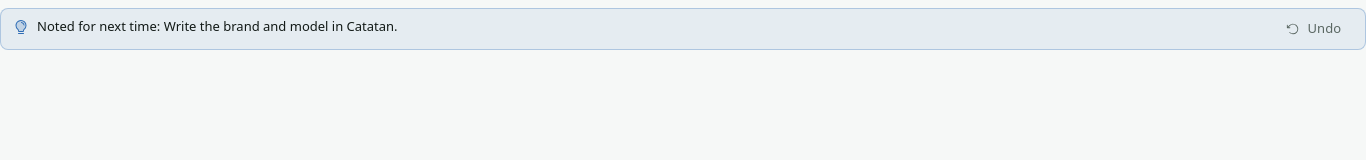
it: Noted for next time › shows the lesson and Undo takes it back on the server
This screenshot has width=1366, height=160.
expect the text "Noted for next time:" is shown: met, box [37,17,160,35]
Click the button "Undo": {"x": 1313, "y": 29} [1274,13,1353,45]
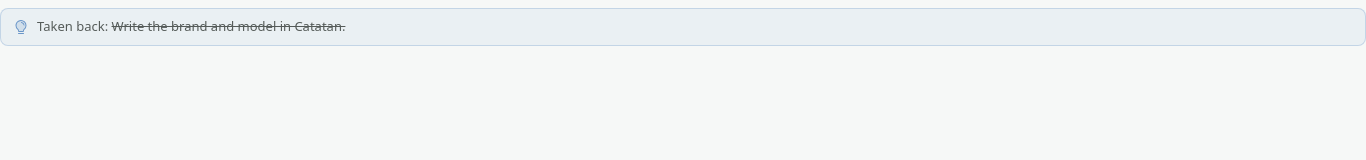
expect the text "Taken back:" is shown: met, box [37,17,108,35]
